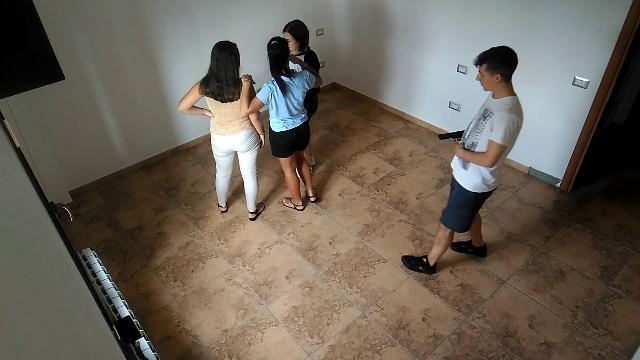non-violence: (176, 39, 264, 222), (238, 40, 321, 212), (282, 17, 321, 182)
violence: (401, 45, 524, 273)
weapon: (437, 130, 464, 142)
